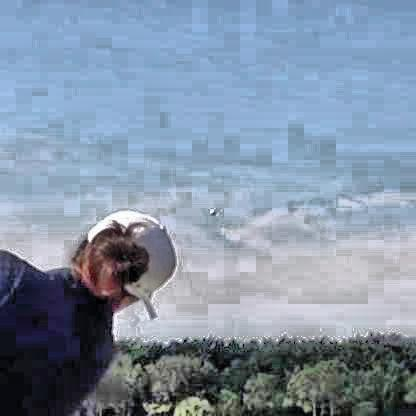golfball: (206, 207, 213, 214)
